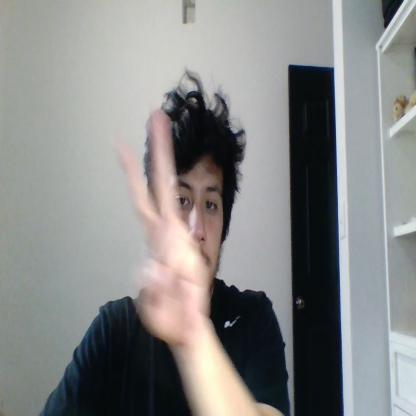V: (118, 111, 210, 341)
